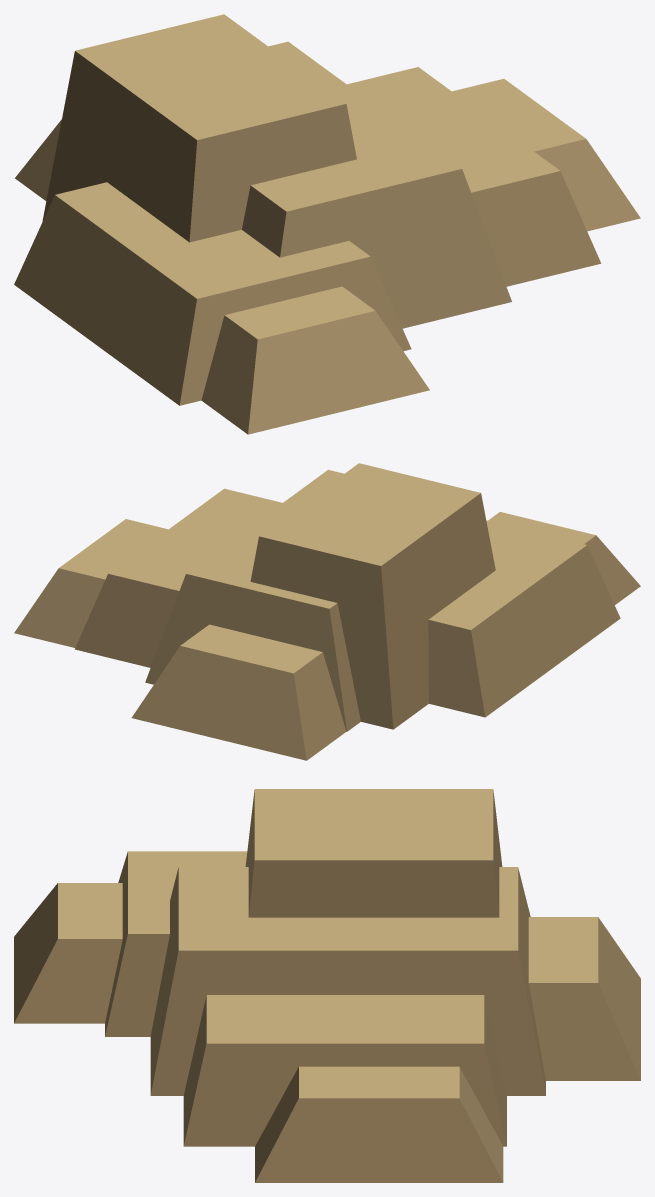
File: SM_Env_Rock_Brown_02.fbx
The picture shows the model from 3 angles, top to bottom: view 1: azimuth 30°, elevation 25°; view 2: azimuth 150°, elevation 25°; view 3: azimuth 270°, elevation 25°; orthographic projection. The views are drawn at different scales.
Visible parts, largest first — view 1: SM_Env_Rock_Brown_02; view 2: SM_Env_Rock_Brown_02; view 3: SM_Env_Rock_Brown_02.
Part boxes in pixels (<box>): SM_Env_Rock_Brown_02: <box>14,14,640,434</box>; SM_Env_Rock_Brown_02: <box>14,463,640,760</box>; SM_Env_Rock_Brown_02: <box>14,789,640,1182</box>.
Bounding box in the file's own units: 3.37 × 1.12 × 3.48.
